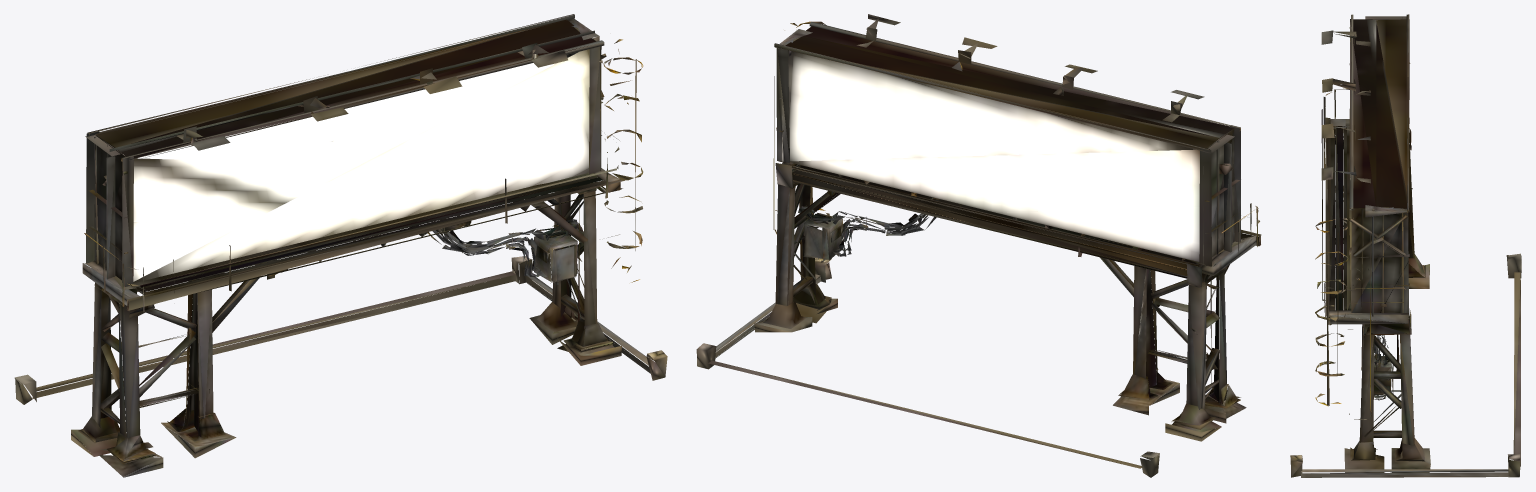
Rendered from billboard-far.glb.
3 renders of one model, left to right at view 1: azimuth 30°, elevation 25°; view 2: azimuth 150°, elevation 25°; view 3: azimuth 270°, elevation 25°, orthographic. The views are drawn at different scales.
Parts seen in each view (by area): view 1: billboard; view 2: billboard; view 3: billboard.
Part boxes in pixels (x1,y1,x2,y2): billboard: [14, 14, 667, 477]; billboard: [696, 14, 1261, 477]; billboard: [1290, 14, 1521, 477].
Size of the model in its own units: 7.98 by 4.83 by 3.73.
Materials: 1 (1 with a texture image).
